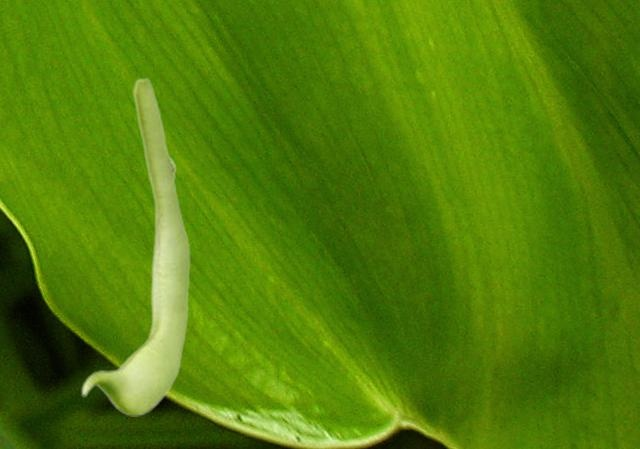french_bean: (80, 76, 189, 415)
